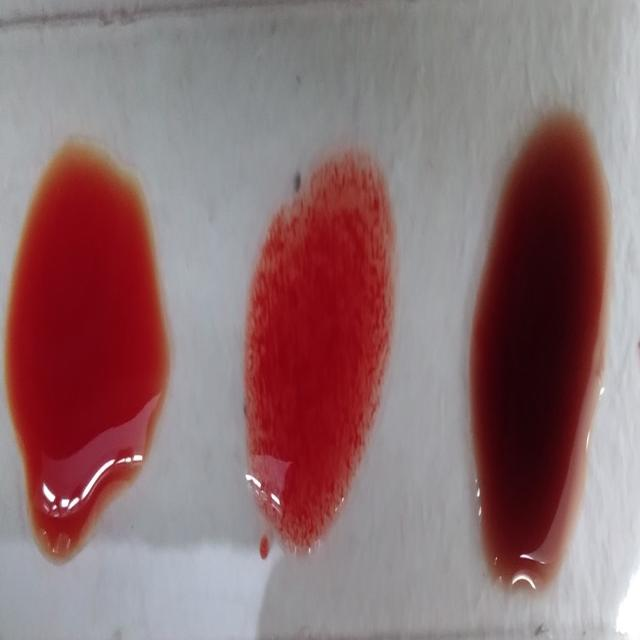D: (245, 146, 394, 548)
